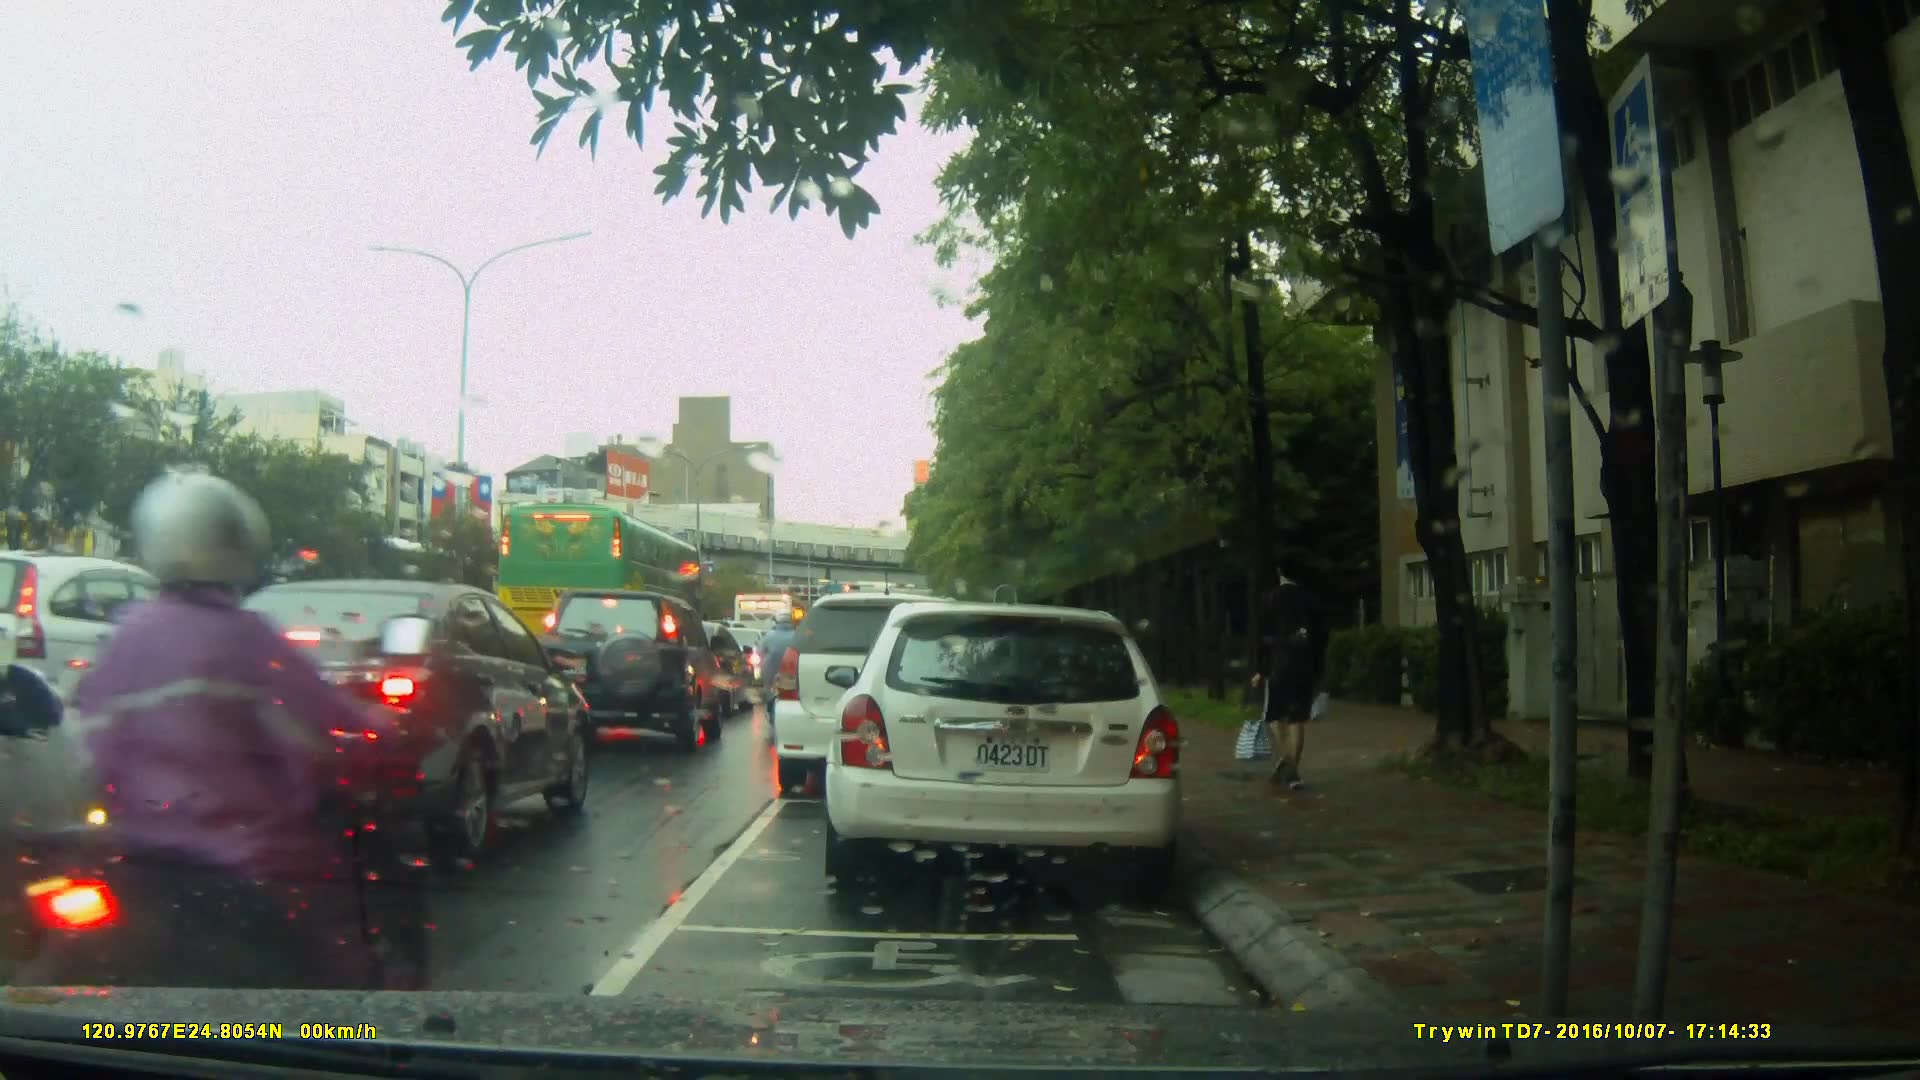pedestrian: (1233, 553, 1339, 801)
rider: (1, 473, 408, 1047), (761, 607, 806, 728)
vehicle: (144, 575, 592, 870), (831, 592, 1196, 897), (770, 592, 999, 799), (7, 555, 239, 749), (532, 585, 729, 750), (493, 500, 707, 652)
